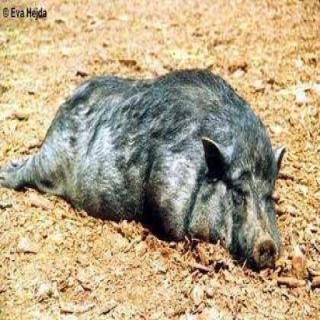Pig: (5, 49, 305, 266)
